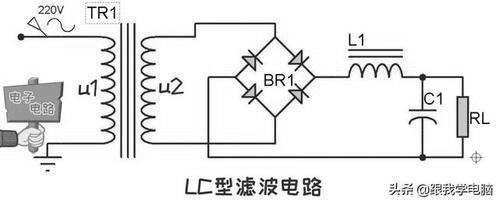bridge: (231, 31, 320, 120)
cap2: (407, 106, 440, 129)
inductance: (345, 48, 408, 83)
res1: (455, 93, 471, 141)
trans: (96, 27, 160, 158)
